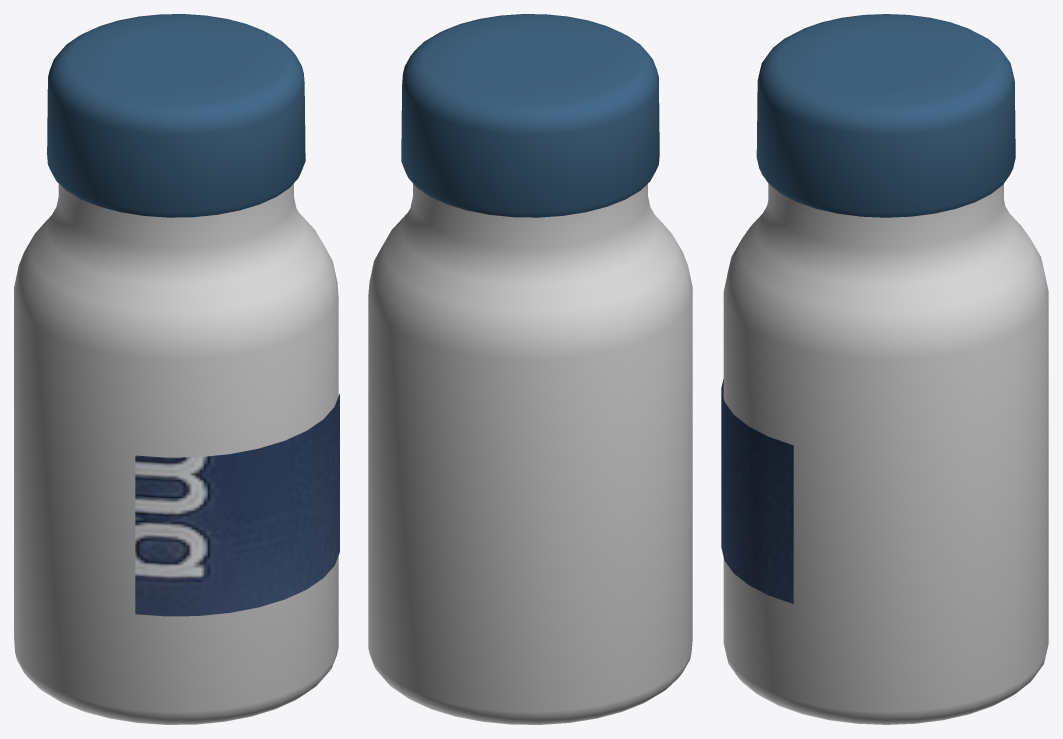
Rendered from archon-vial-sketchfab.glb.
The picture shows the model from 3 angles, left to right: view 1: azimuth 30°, elevation 25°; view 2: azimuth 150°, elevation 25°; view 3: azimuth 270°, elevation 25°; orthographic projection.
Parts seen in each view (by area): view 1: GlassBody, Lid, ArchonLabel; view 2: GlassBody, Lid; view 3: GlassBody, Lid, ArchonLabel.
Part boxes in pixels (bbox=[...]): GlassBody: bbox=[14, 183, 338, 724]; Lid: bbox=[47, 14, 305, 217]; ArchonLabel: bbox=[135, 394, 339, 616]; GlassBody: bbox=[368, 184, 692, 724]; Lid: bbox=[401, 14, 659, 217]; GlassBody: bbox=[723, 183, 1048, 724]; Lid: bbox=[756, 14, 1015, 217]; ArchonLabel: bbox=[721, 379, 793, 603].
Bounding box in the file's own units: 15.39 × 31.62 × 15.51.
4 materials, 1 textured.
